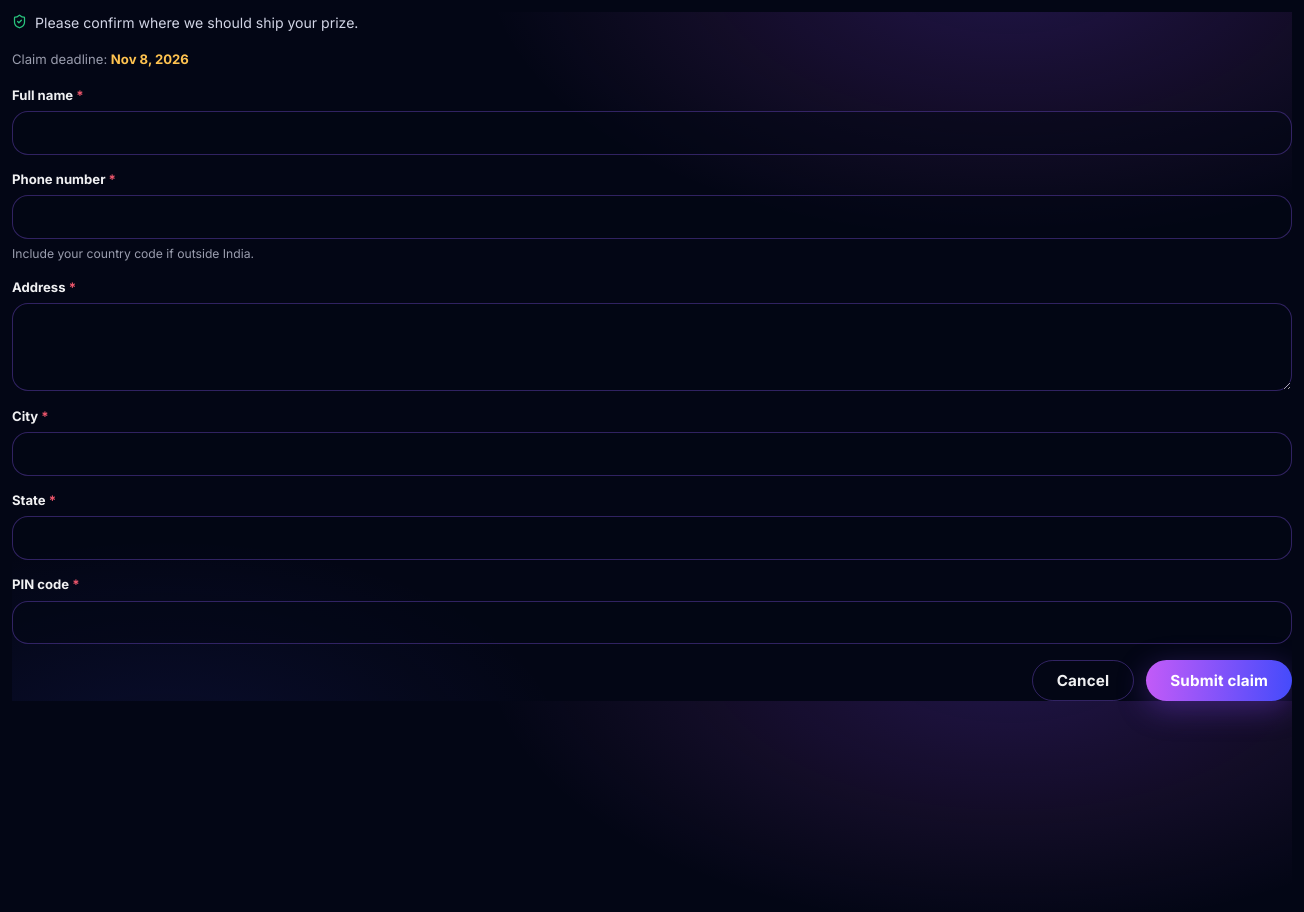
Test: PrizeClaimForm submission › treats an UNAUTHORIZED response as non-retryable
Type "Asha Kumar" into the field labelled "Full name *" at (652, 133), box x1=12 y1=111 x2=1292 y2=155
Type "9876543210" into the field labelled "Phone number *" at (652, 217), box x1=12 y1=195 x2=1292 y2=239
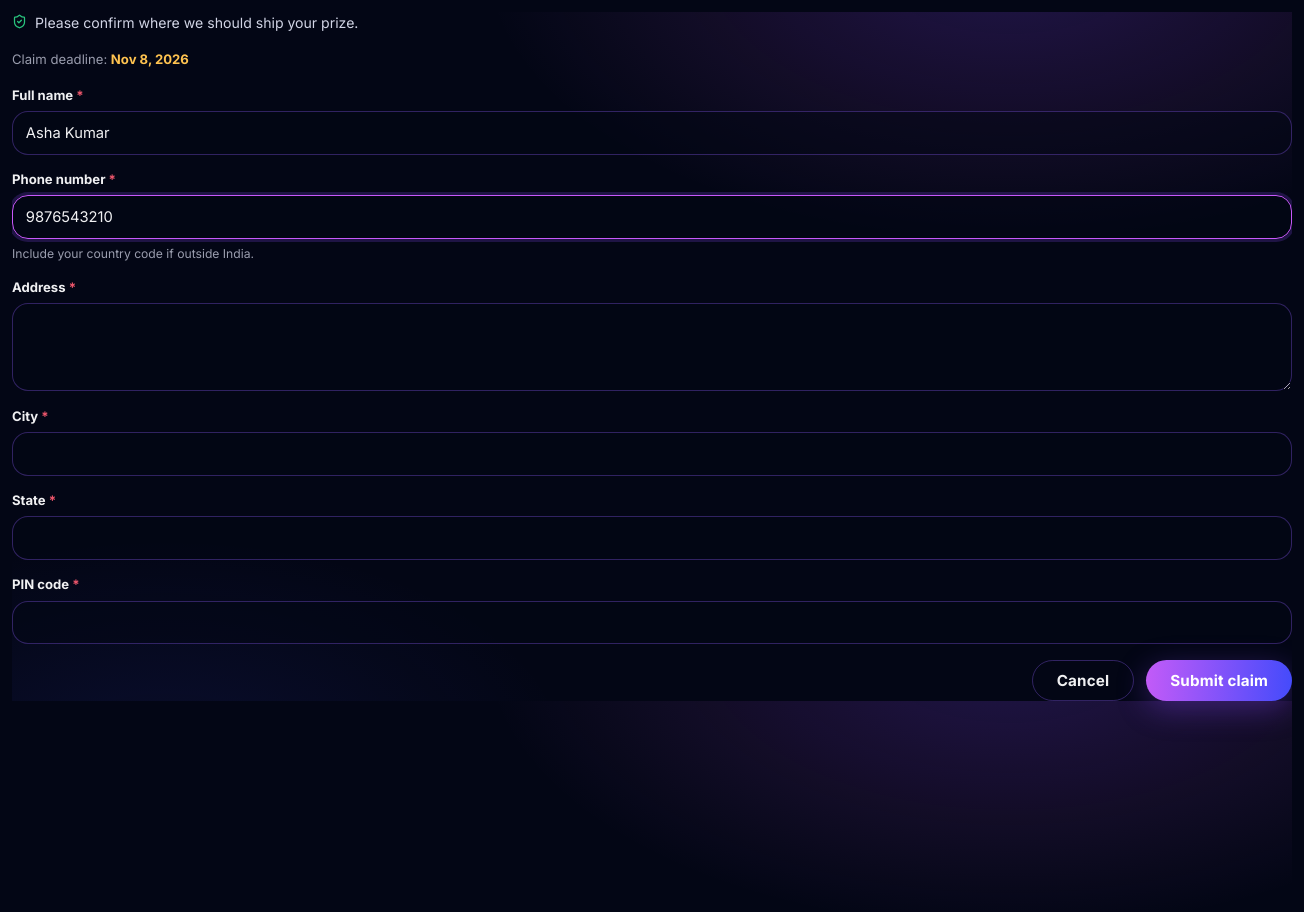
Type "12 MG Road" into the text box labelled "Address *" at (652, 347), box x1=12 y1=303 x2=1292 y2=391
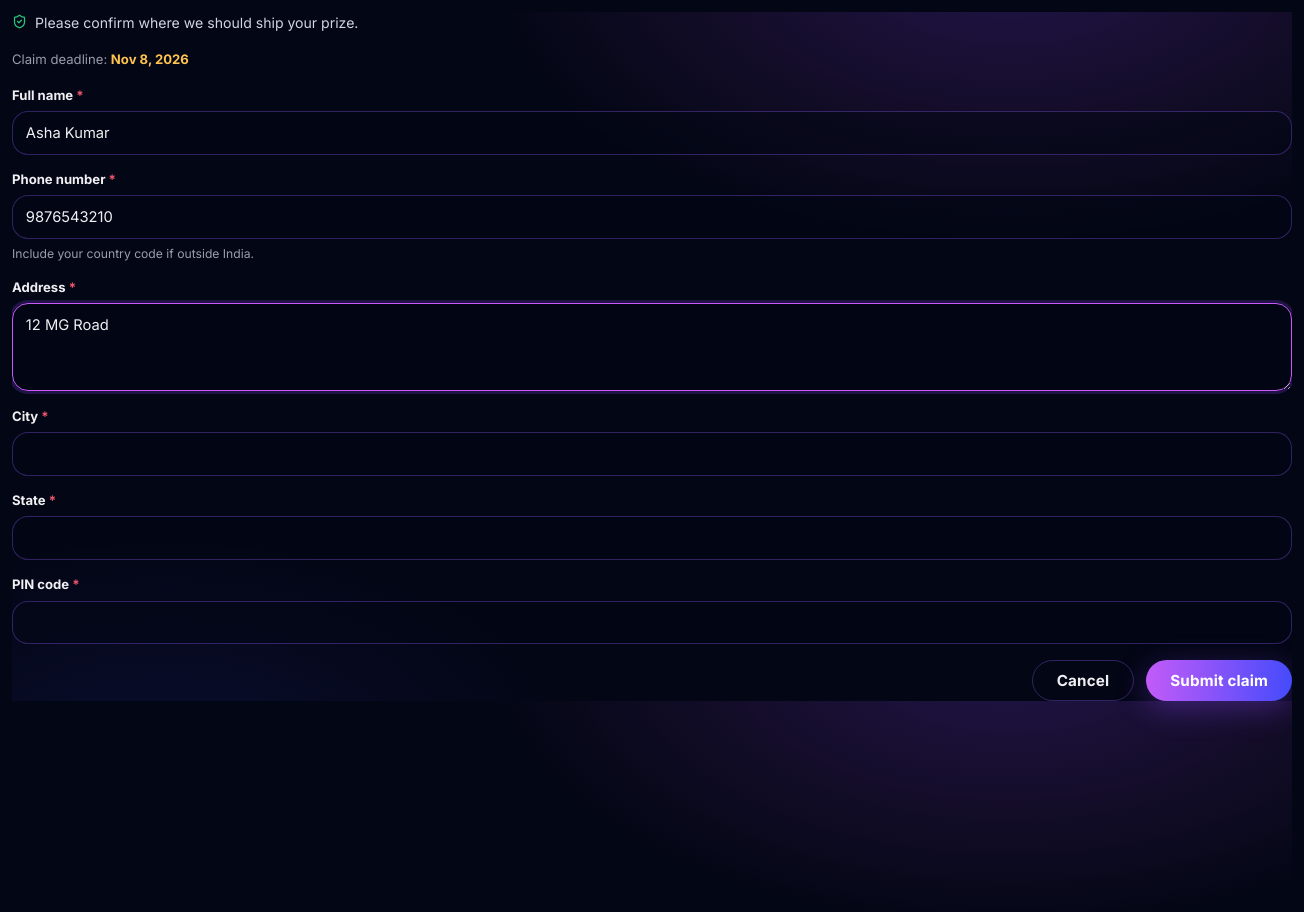
Type "Pune" into the field labelled "City *" at (652, 454), box x1=12 y1=432 x2=1292 y2=476
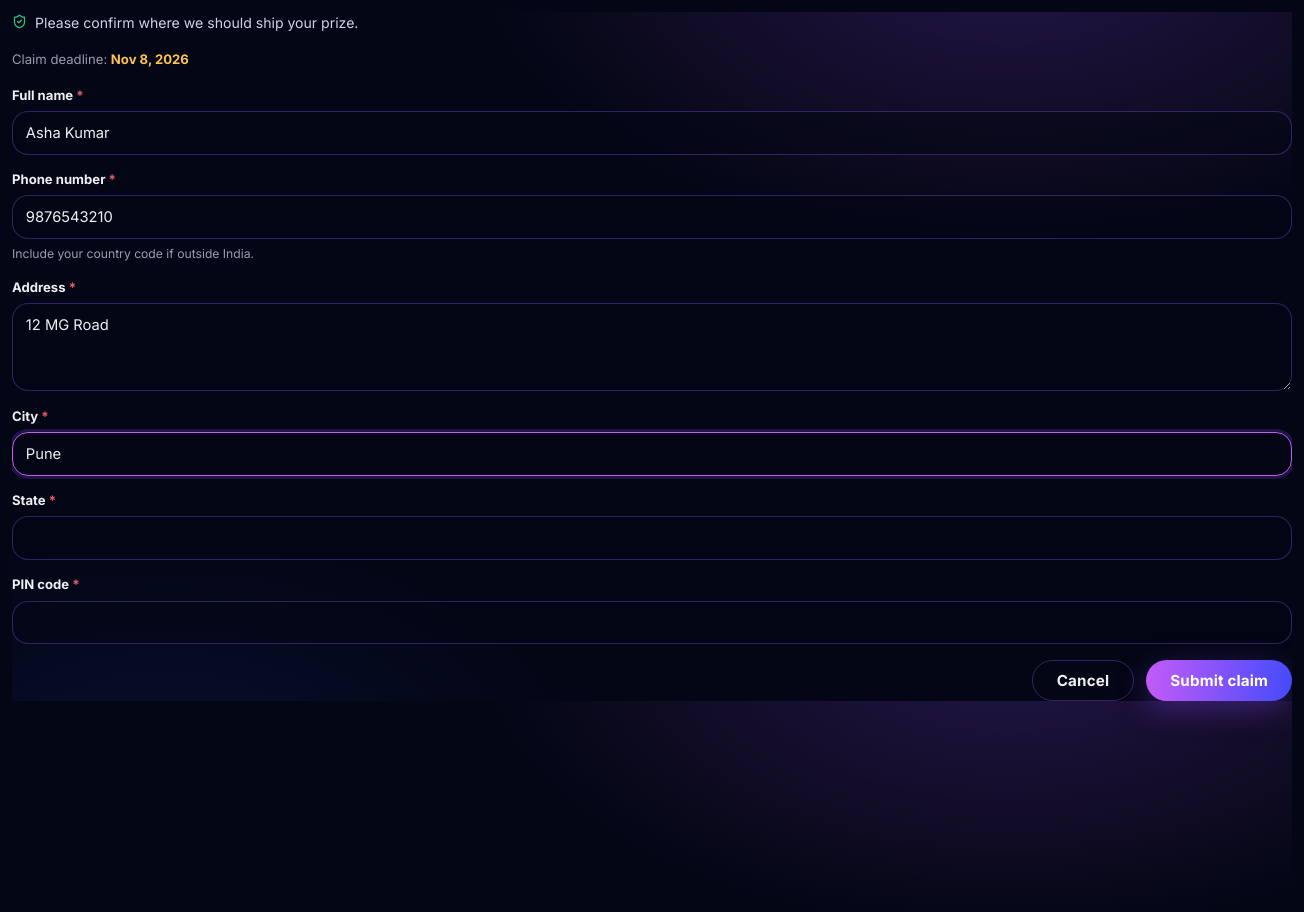
Type "Maharashtra" into the field labelled "State *" at (652, 538), box x1=12 y1=516 x2=1292 y2=560
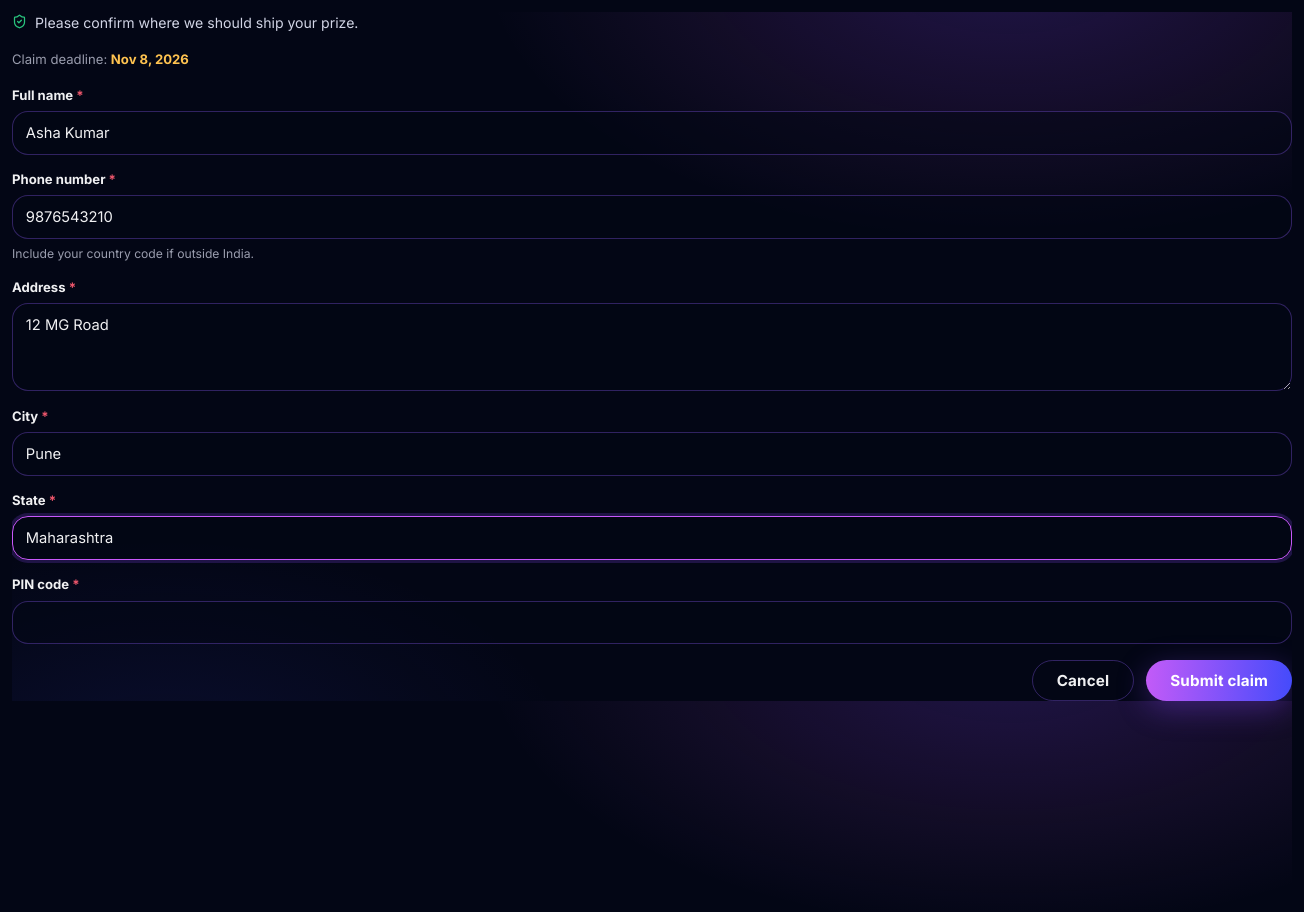
Type "411001" into the field labelled "PIN code *" at (652, 623), box x1=12 y1=601 x2=1292 y2=644
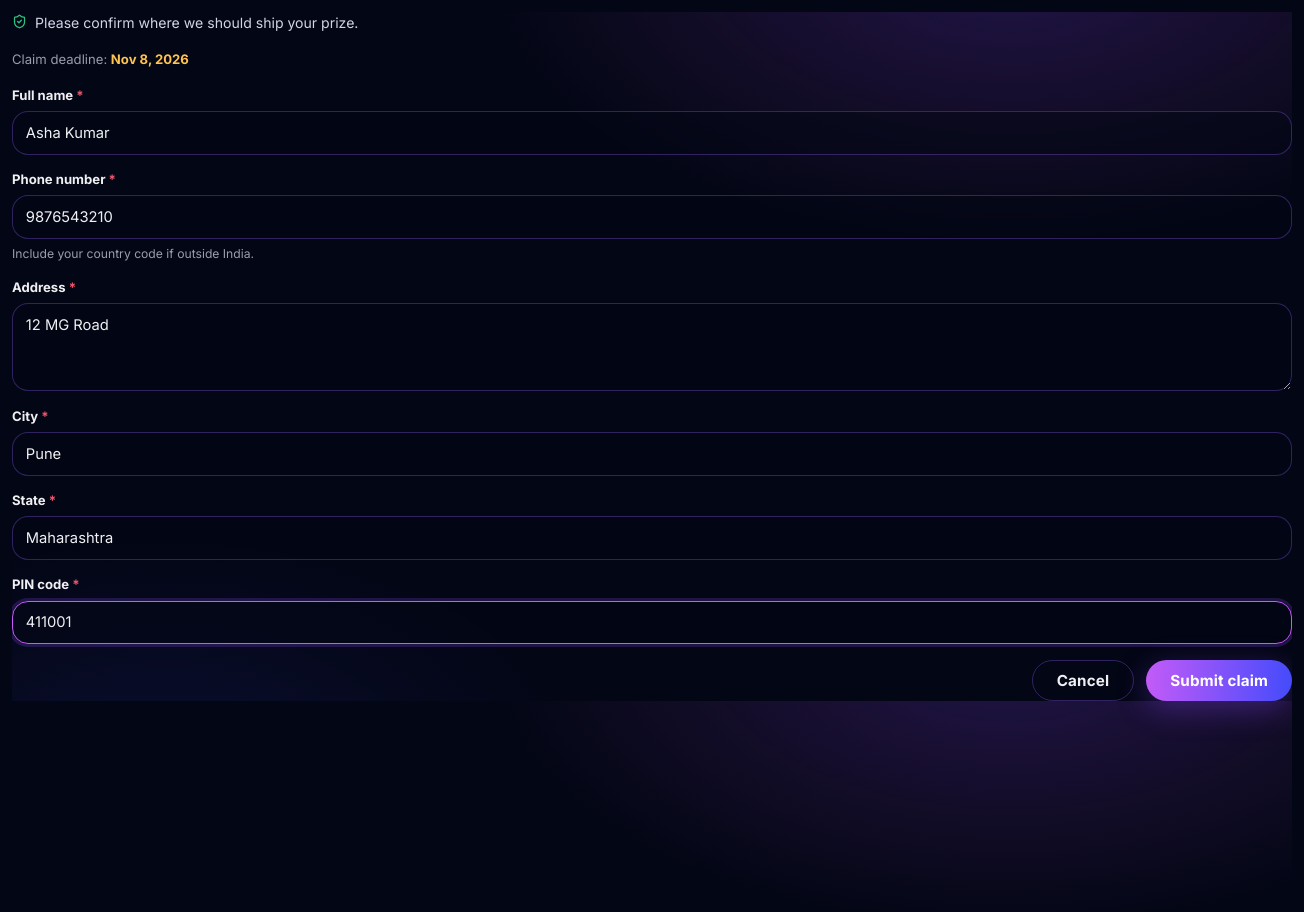
Click the button "Submit claim" at (1219, 681), box x1=1146 y1=660 x2=1292 y2=701
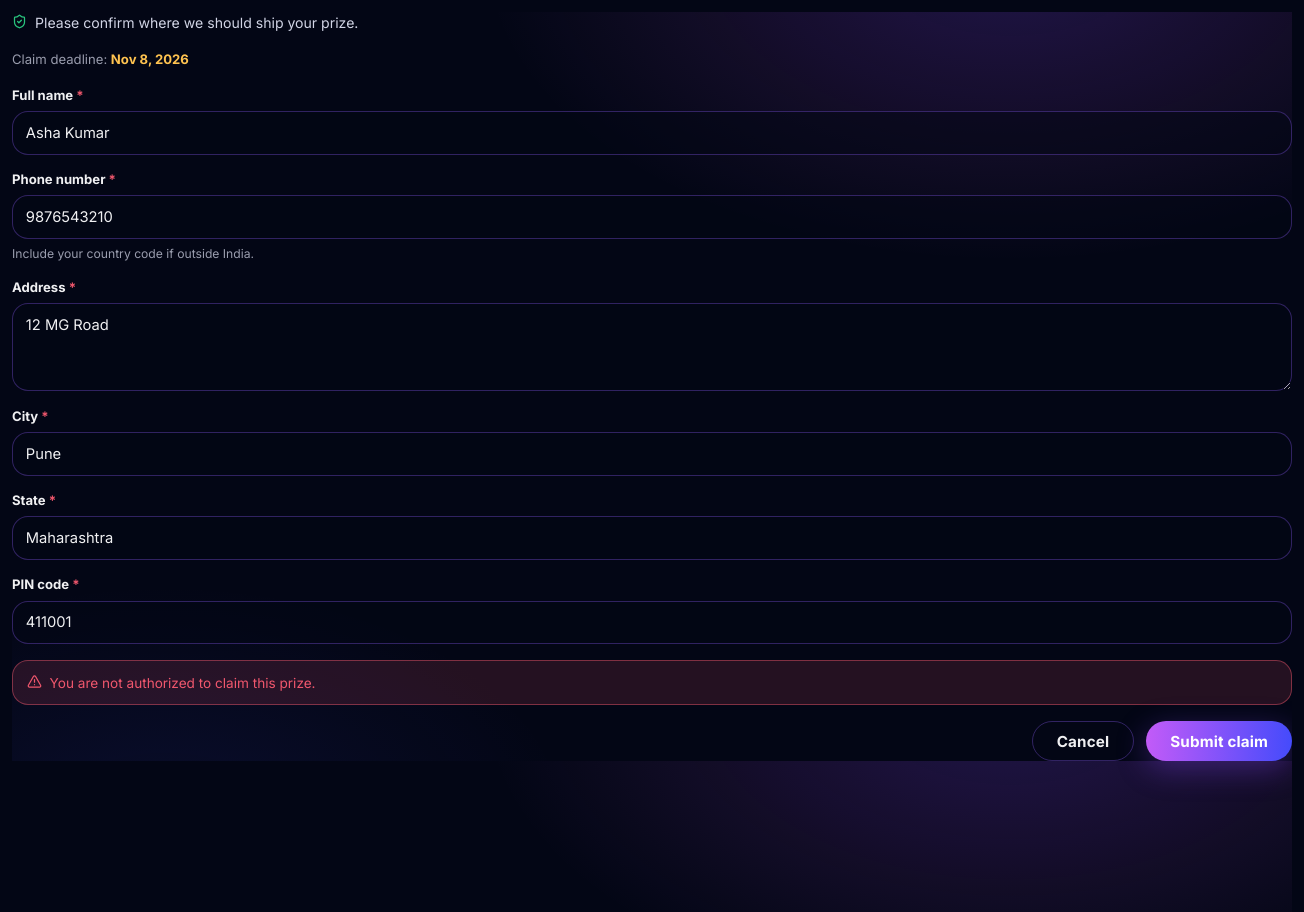
Expected: the message shows "not authorized", x1=50 y1=675 x2=316 y2=691
